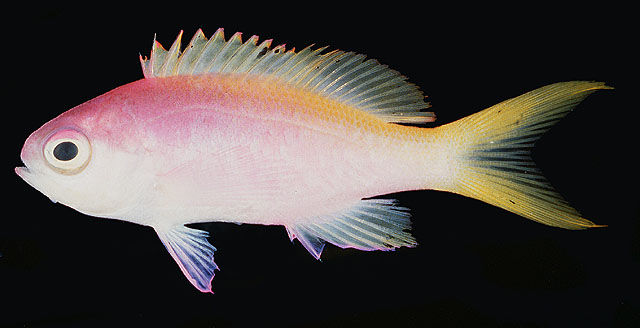fish: (15, 26, 616, 295)
